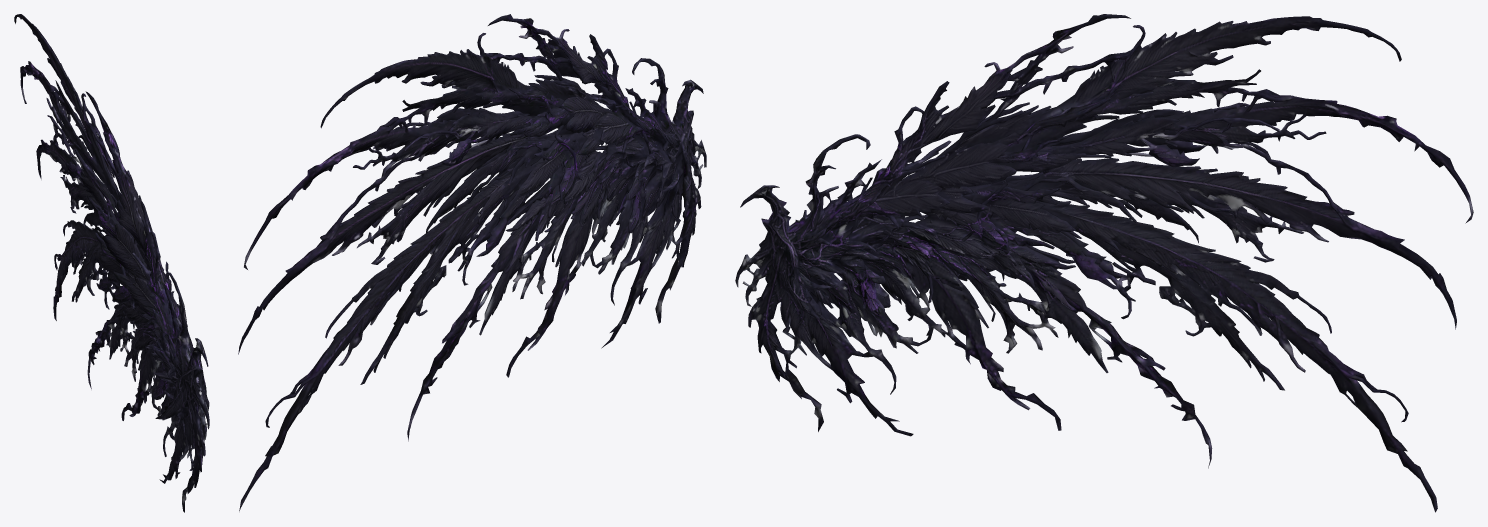
The picture shows the model from 3 angles, left to right: view 1: azimuth 30°, elevation 25°; view 2: azimuth 150°, elevation 25°; view 3: azimuth 270°, elevation 25°; orthographic projection. The views are drawn at different scales.
Visible parts, largest first — view 1: tripo_node_dc3f46f8-b751-49dc-ace0-ac498826561a; view 2: tripo_node_dc3f46f8-b751-49dc-ace0-ac498826561a; view 3: tripo_node_dc3f46f8-b751-49dc-ace0-ac498826561a.
Part boxes in pixels (x1,y1,x2,y2): tripo_node_dc3f46f8-b751-49dc-ace0-ac498826561a: [14, 14, 209, 512]; tripo_node_dc3f46f8-b751-49dc-ace0-ac498826561a: [238, 14, 706, 511]; tripo_node_dc3f46f8-b751-49dc-ace0-ac498826561a: [735, 14, 1473, 512].
Bounding box in the file's own units: 0.203 × 0.5 × 0.74.
1 material, 1 textured.
